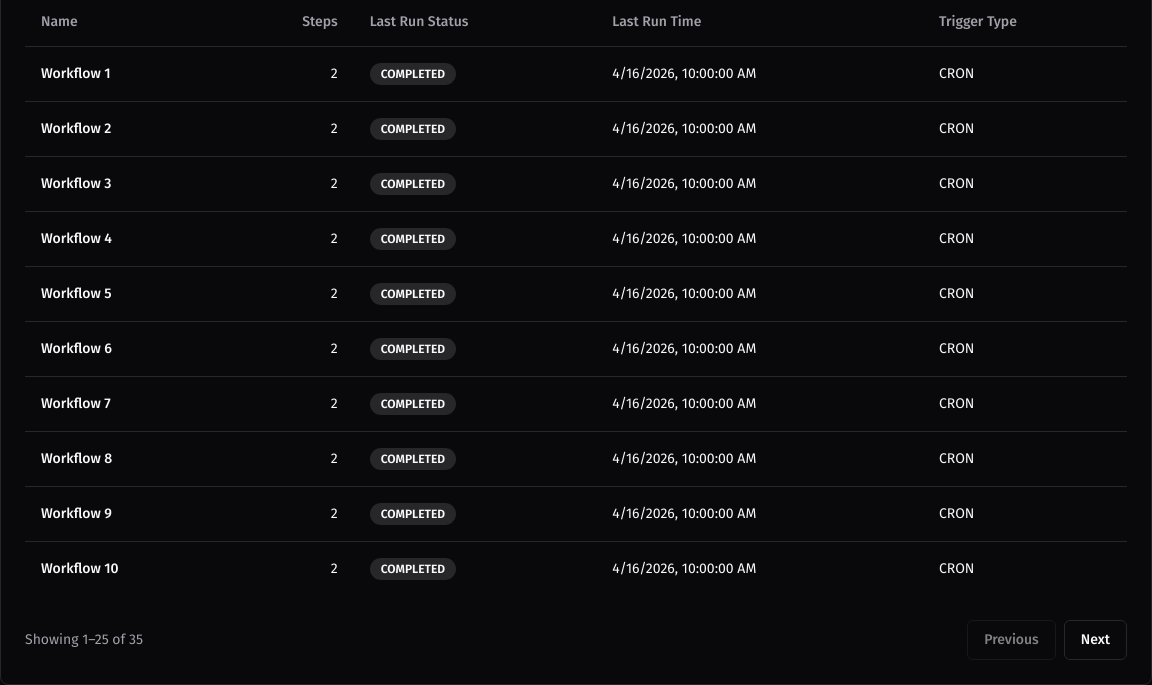
it: Workflows Integration Tests › loads next page when clicking next button
The width and height of the screenshot is (1152, 685).
(page scrolled)
Expected: the text "Workflow 1" is shown, top-left (25, 46), bottom-right (228, 101)
# Find and click Next button
Click the button "Next".
click(1095, 640)  # box top-left (1064, 620), bottom-right (1127, 660)
(page scrolled)
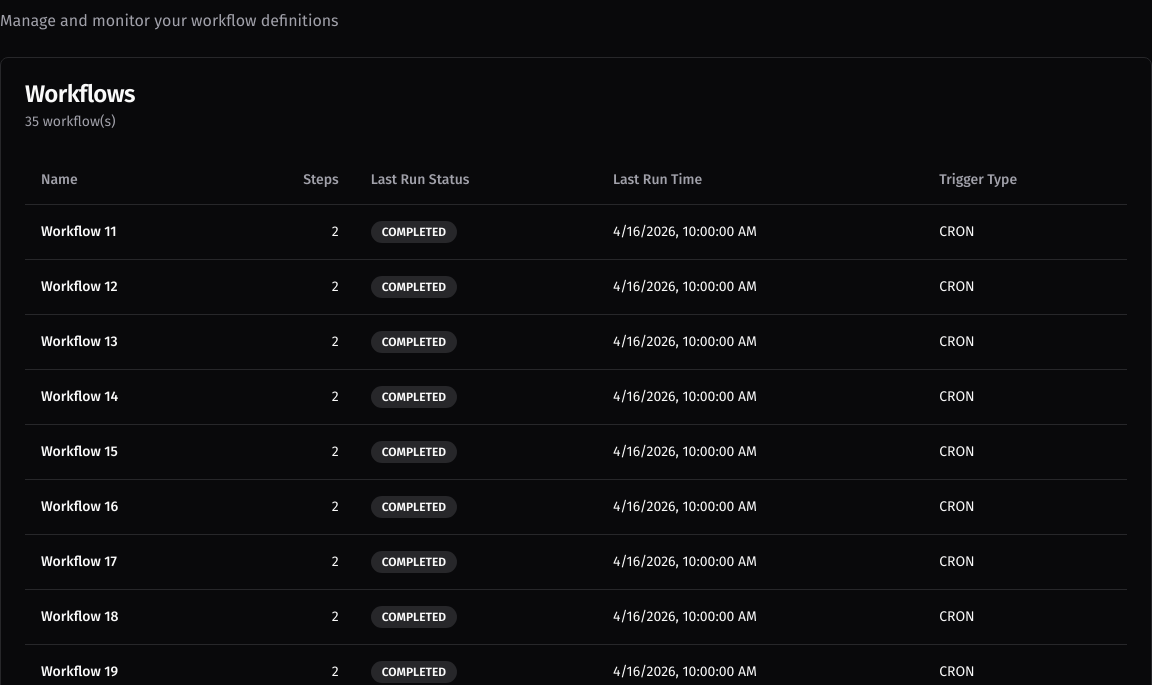
Expected: the text "Workflow 11" is shown, top-left (25, 204), bottom-right (230, 259)
